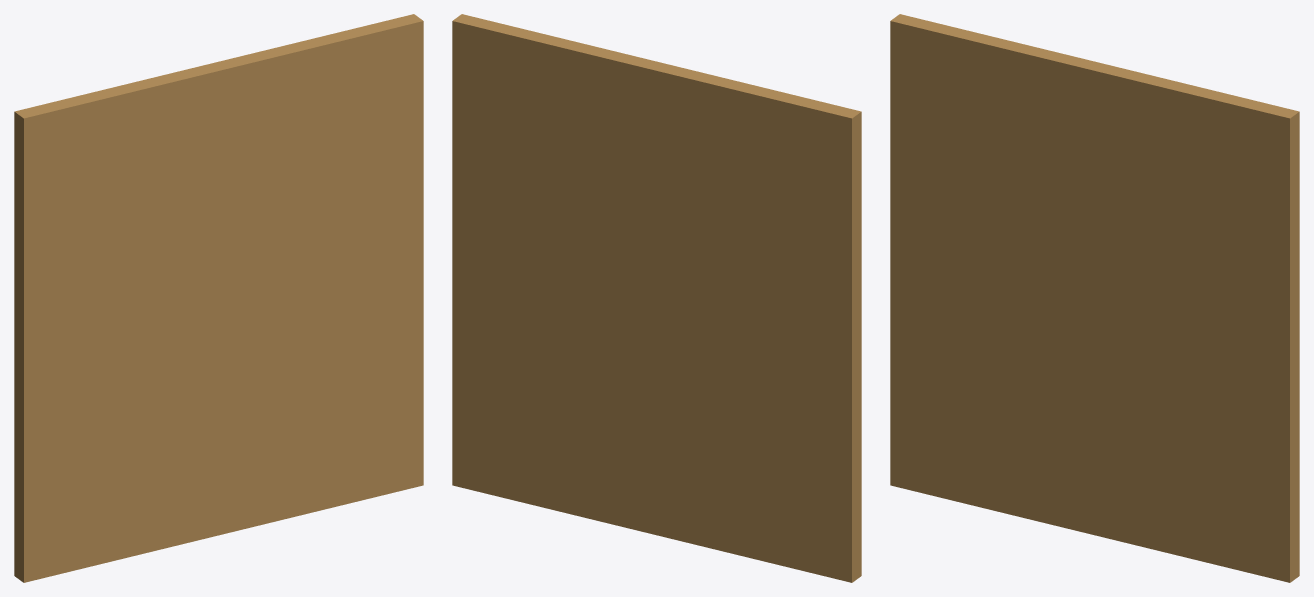
The picture shows the model from 3 angles, left to right: view 1: azimuth 30°, elevation 25°; view 2: azimuth 150°, elevation 25°; view 3: azimuth 330°, elevation 25°; orthographic projection.
Parts seen in each view (by area): view 1: FF-W053; view 2: FF-W053; view 3: FF-W053.
Boxes of the visible parts, bbox=[...] form: FF-W053: bbox=[14, 14, 423, 582]; FF-W053: bbox=[452, 14, 861, 582]; FF-W053: bbox=[890, 14, 1299, 582].
Bounding box in the file's own units: 2.18 × 2.42 × 0.09.
